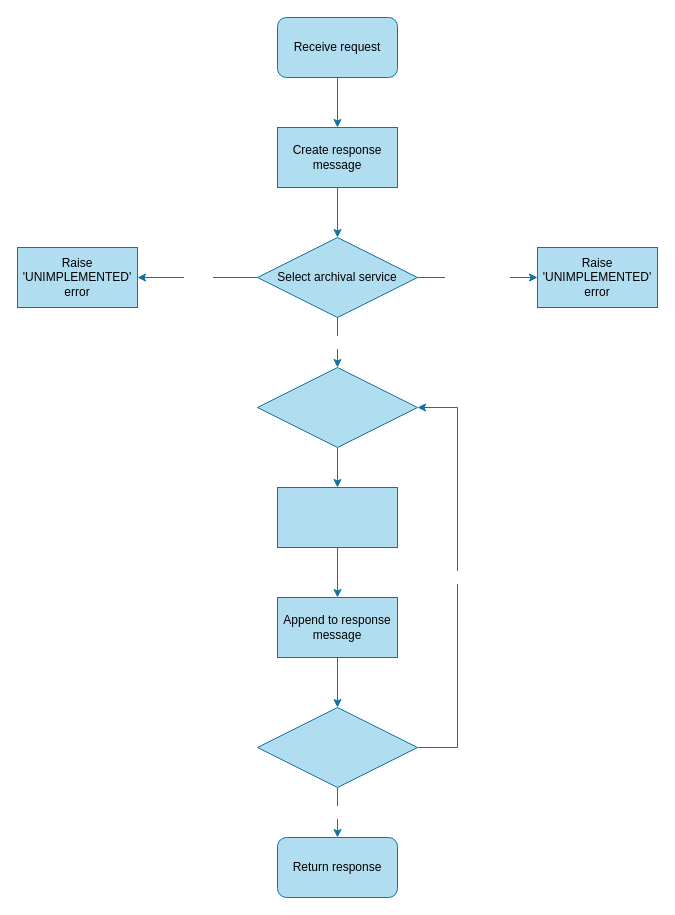
The diagram is 675 pixels wide and 915 high, and some of its shapes have lost their labels. The shapes that lost their labels are listed below. From the top down, each one's centre as x and y in pixels, then its label:
At point (337, 407): "Loop through request points".
At point (337, 517): "Send request to Stormglass' server".
At point (337, 747): "Reached end of request message".
